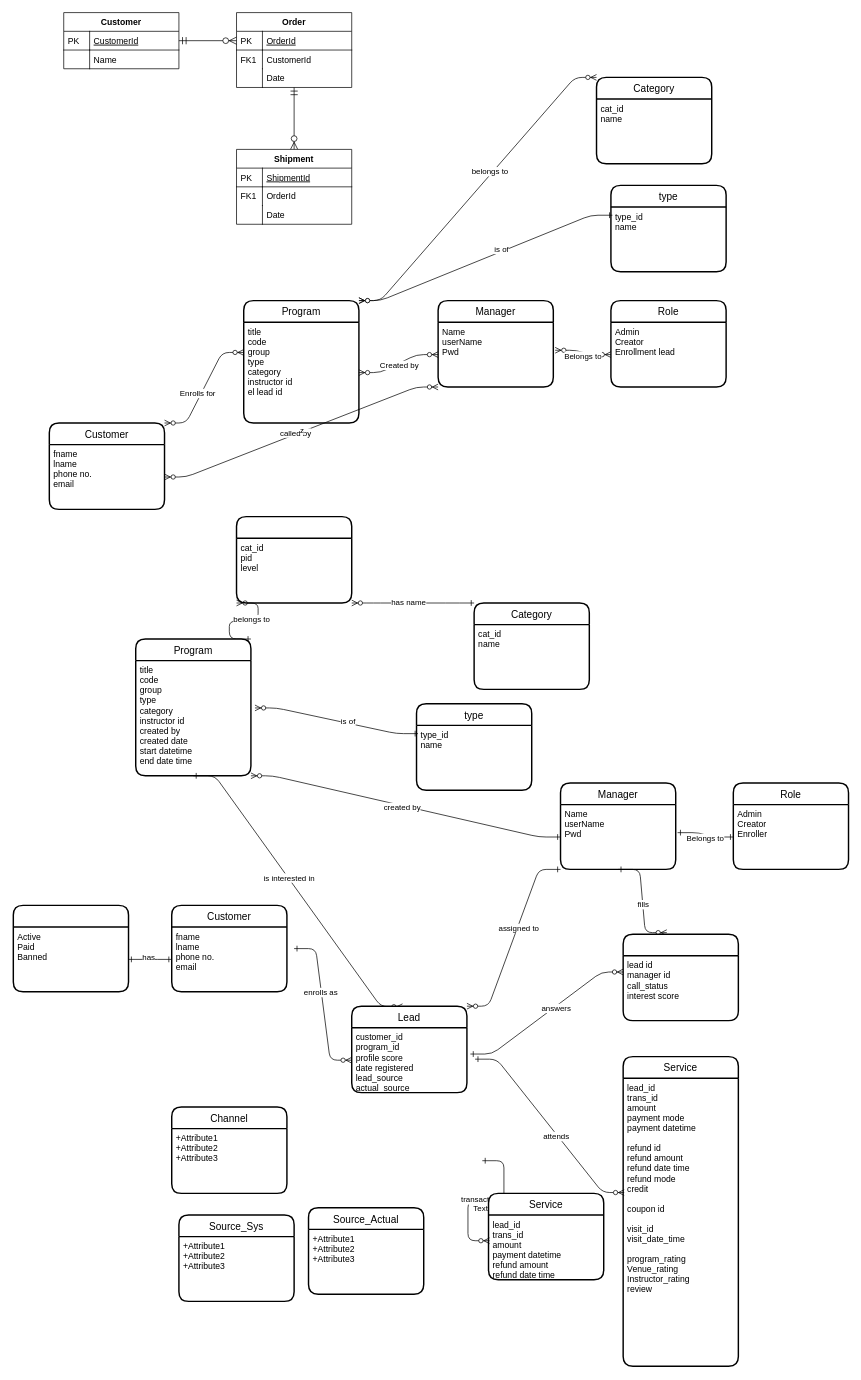
Some shapes in this 861 by 1380 pixel diagram are drawn without their labels. Each missing label, with the box of its shape:
cat_tag: (235, 516, 352, 603)
Interaction: (622, 933, 739, 1021)
Status: (12, 904, 129, 992)
